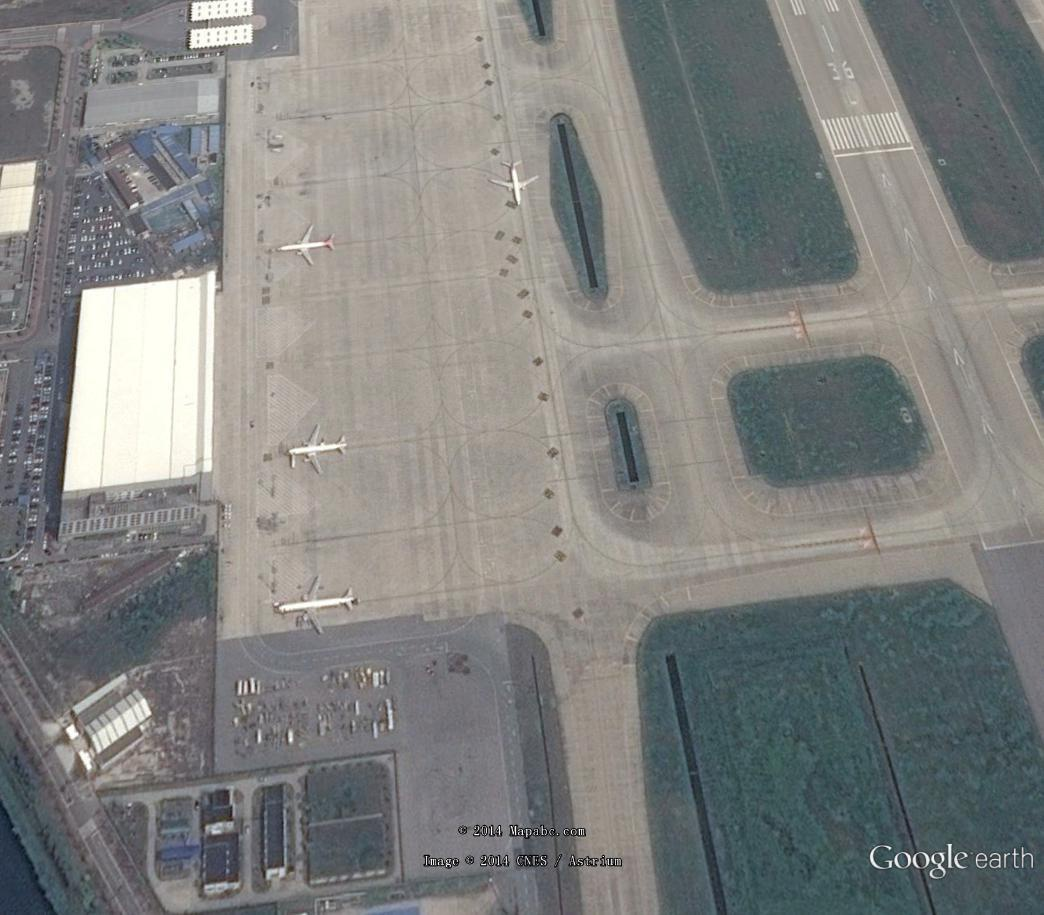aircraft: (271, 568, 367, 642), (285, 420, 349, 477), (273, 222, 337, 271), (487, 156, 543, 208)
